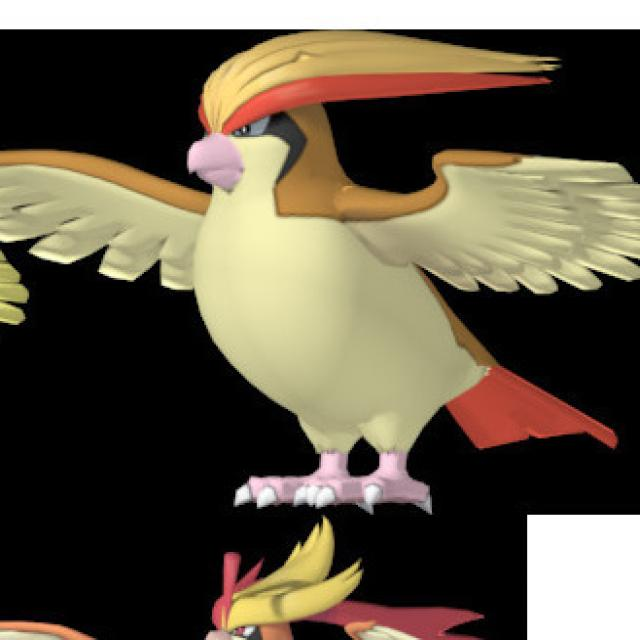Pidgeot: (92, 30, 577, 516)
